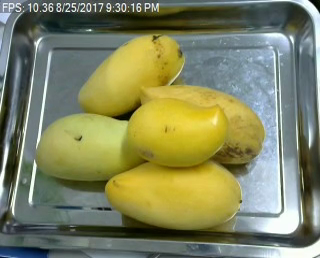Mango: (104, 153, 242, 230), (140, 84, 264, 166), (79, 33, 185, 117), (33, 113, 161, 180), (127, 98, 230, 167)
